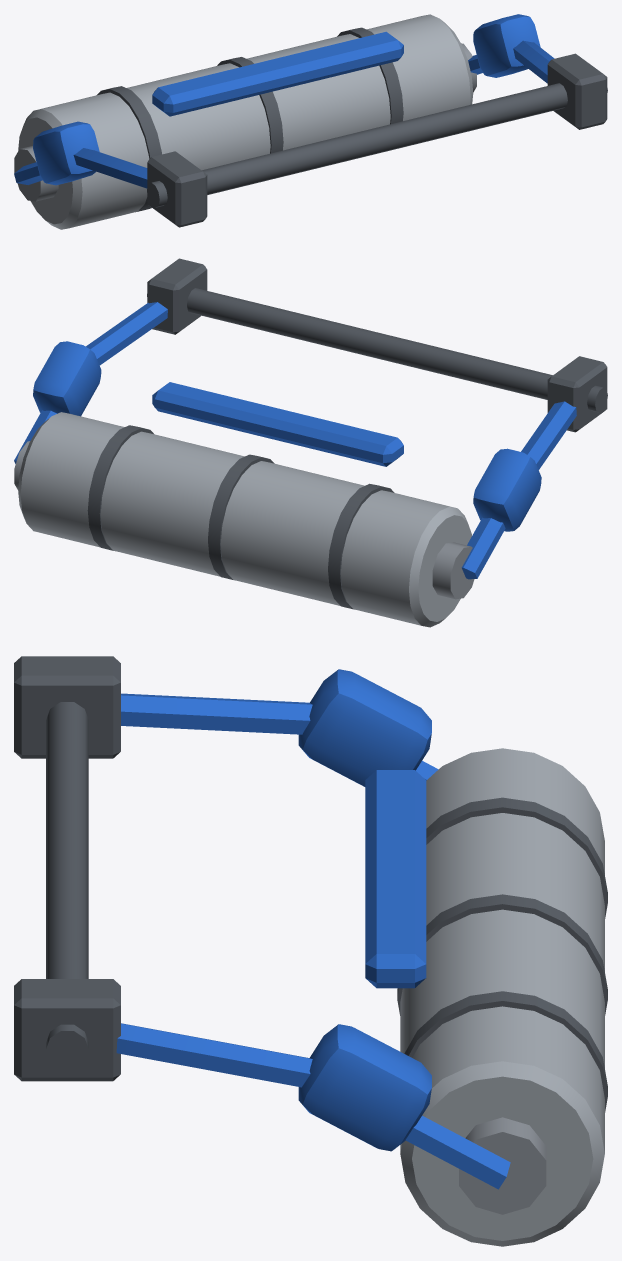
Rendered from addon_stripekit.glb.
3 renders of one model, top to bottom at view 1: azimuth 30°, elevation 25°; view 2: azimuth 150°, elevation 25°; view 3: azimuth 270°, elevation 25°, orthographic. The views are drawn at different scales.
Visible parts, largest first — view 1: Addon; view 2: Addon; view 3: Addon.
Part boxes in pixels (left/top/right/bottom): Addon: left=14, top=14, right=607, bottom=229; Addon: left=14, top=258, right=607, bottom=627; Addon: left=14, top=656, right=607, bottom=1246.
Size of the model in its own units: 1.2 by 0.38 by 0.778.
